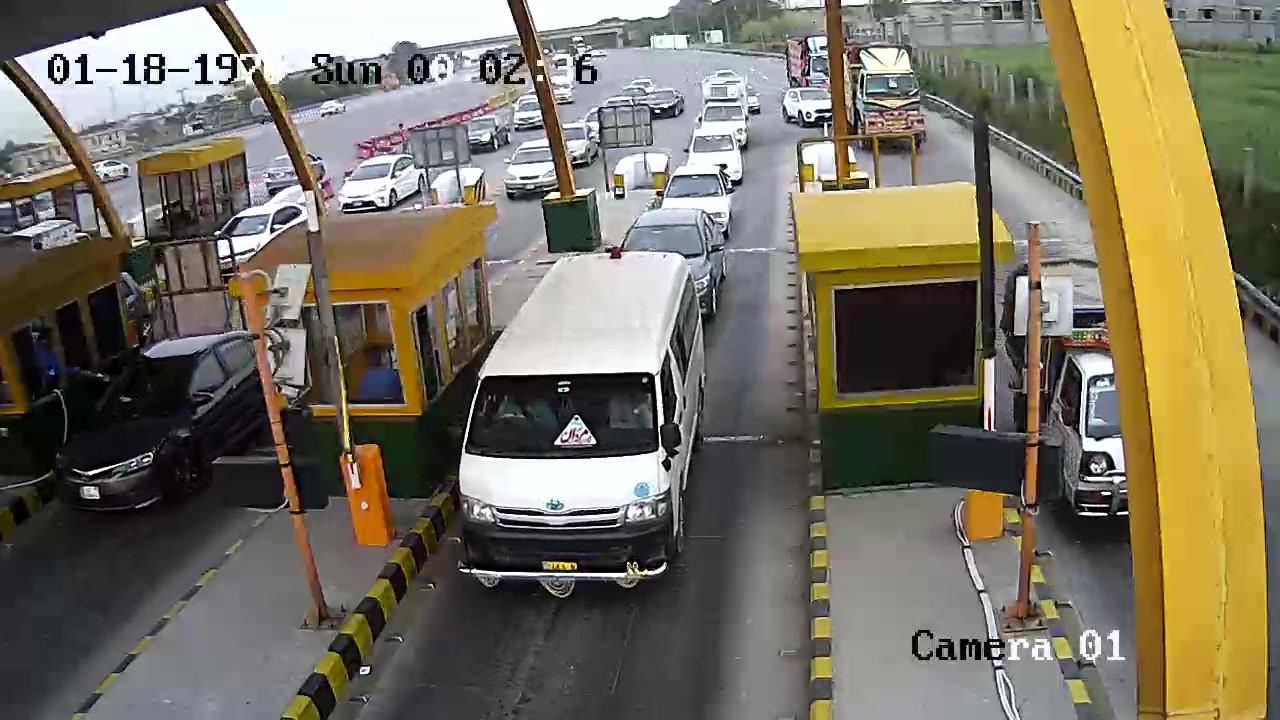F3: (445, 255, 708, 607)
